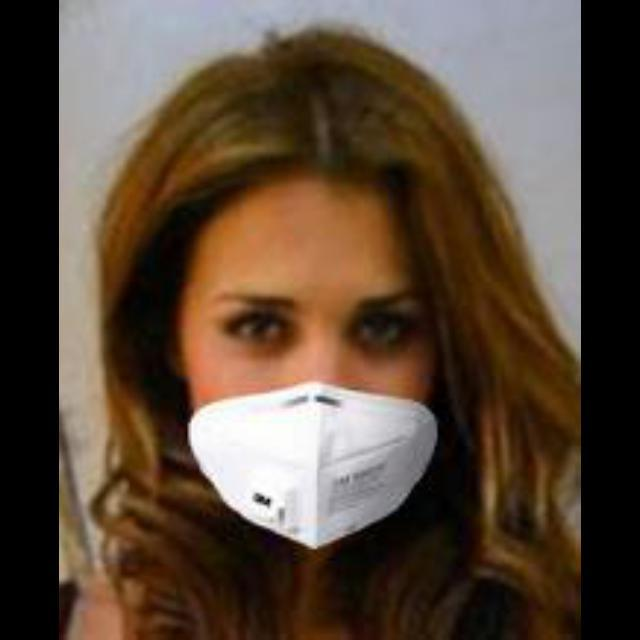suspicion: (79, 108, 472, 510)
